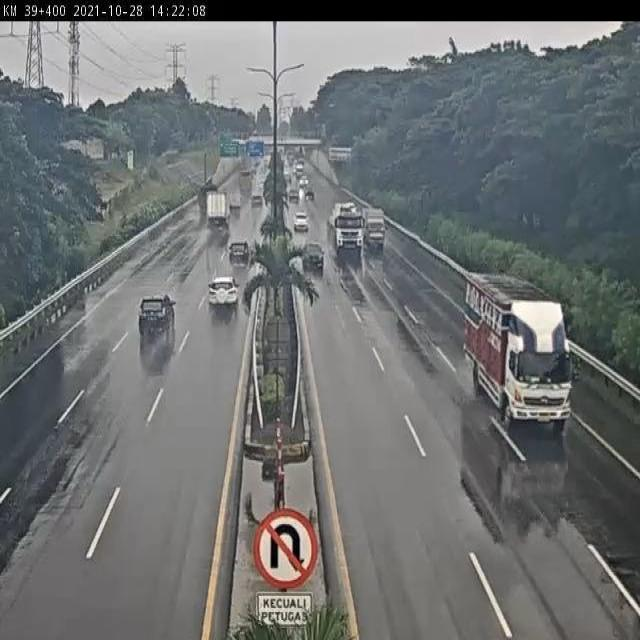Car: (137, 296, 179, 337), (208, 276, 240, 309), (229, 237, 256, 270), (300, 239, 326, 273), (294, 211, 311, 232), (250, 190, 263, 208), (304, 190, 316, 200)
Truck: (459, 272, 584, 431), (326, 196, 366, 258), (360, 205, 390, 255), (202, 188, 231, 231)
